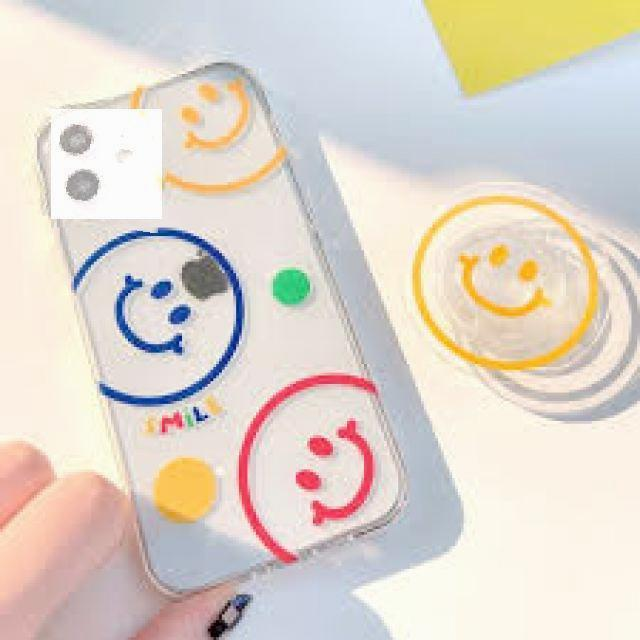lens: (56, 118, 116, 208)
phone: (31, 61, 416, 596)
